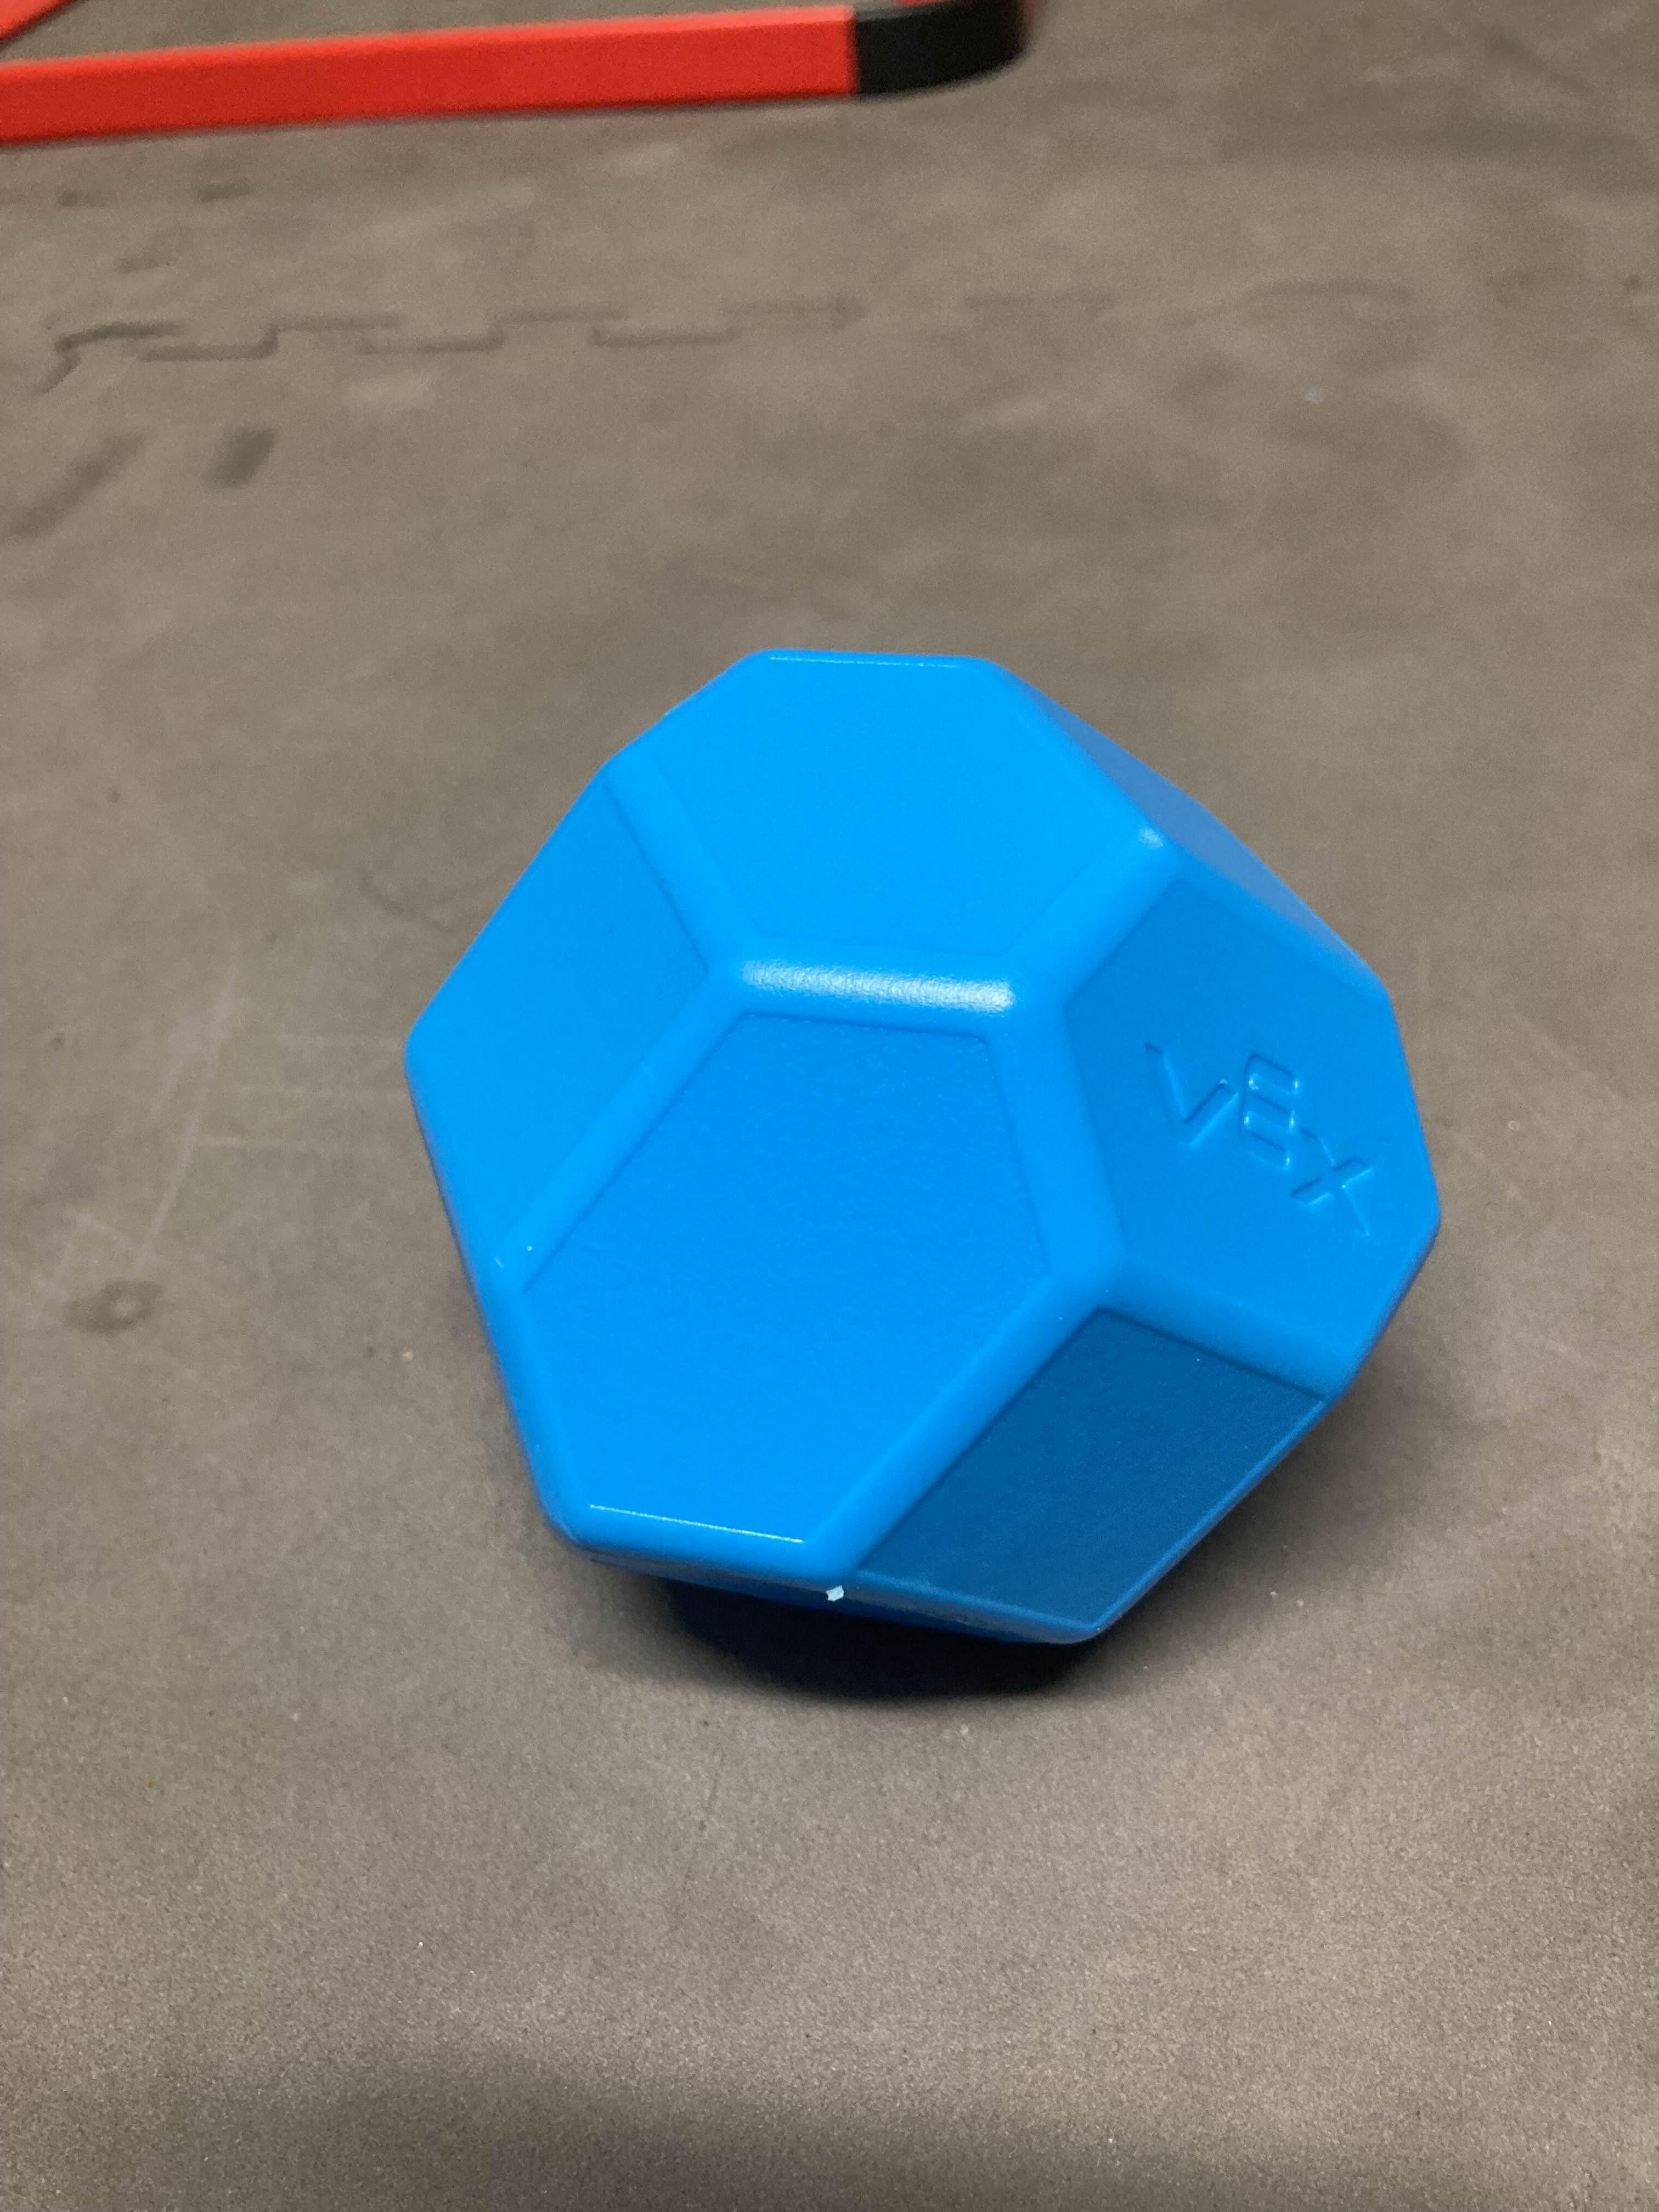Vex-Pieces-BLUE: (399, 646, 1445, 1663)
